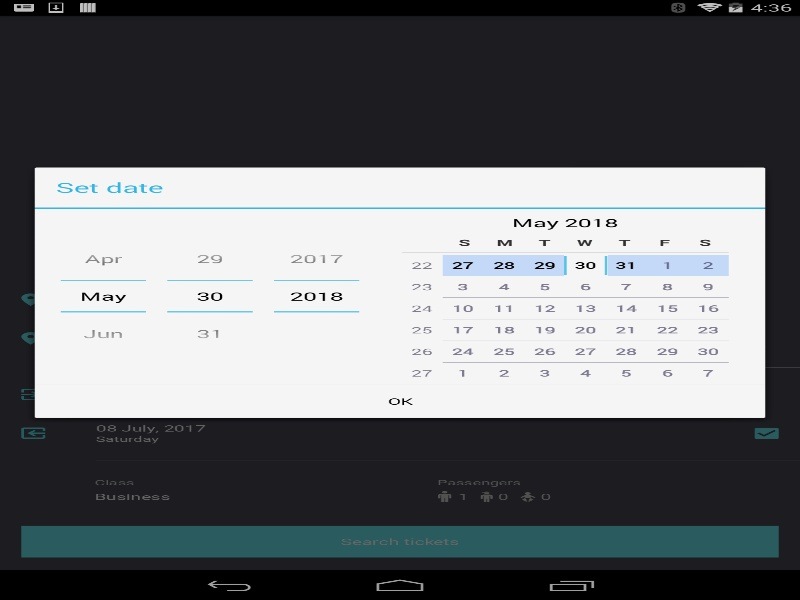Button: (34, 384, 765, 418), (60, 240, 146, 281), (60, 311, 146, 352), (167, 240, 252, 281), (167, 311, 252, 352), (274, 240, 359, 281)
Input: (60, 281, 146, 311), (167, 281, 252, 311), (274, 281, 359, 311)
